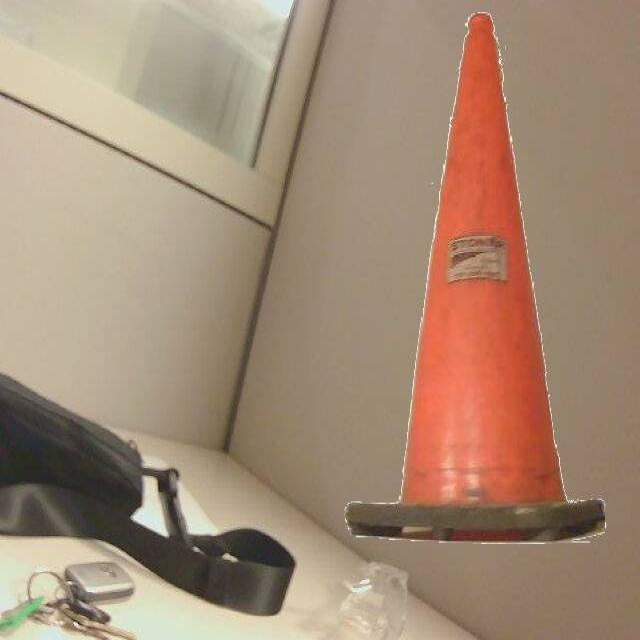traffic cone: (339, 4, 615, 558)
